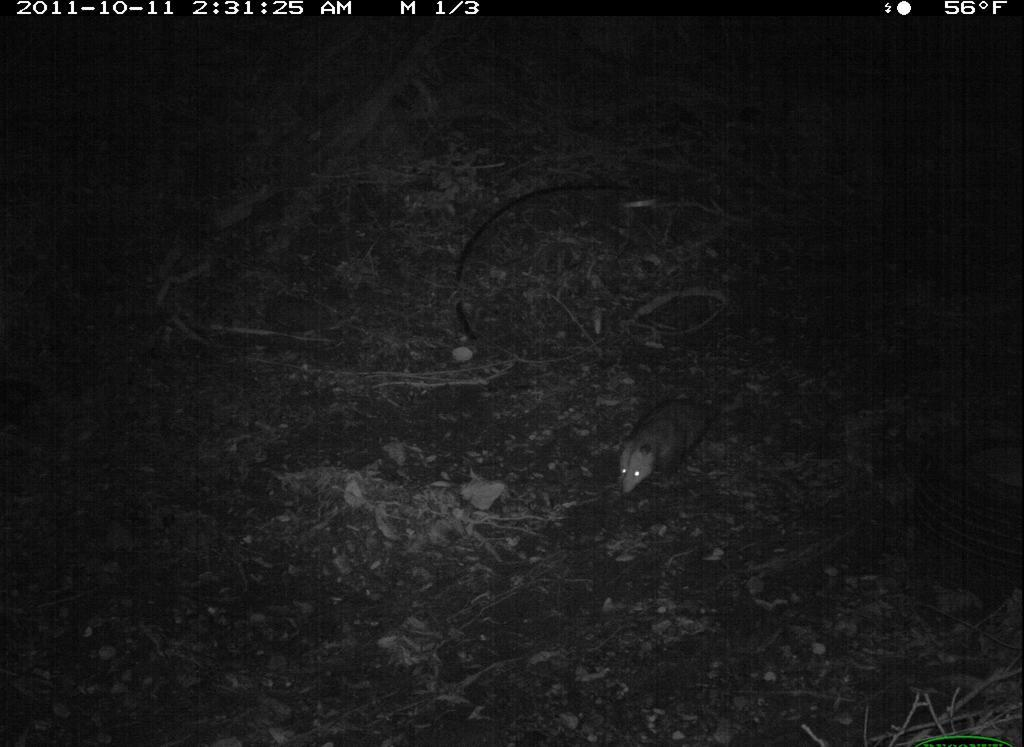opossum: (607, 361, 730, 514)
